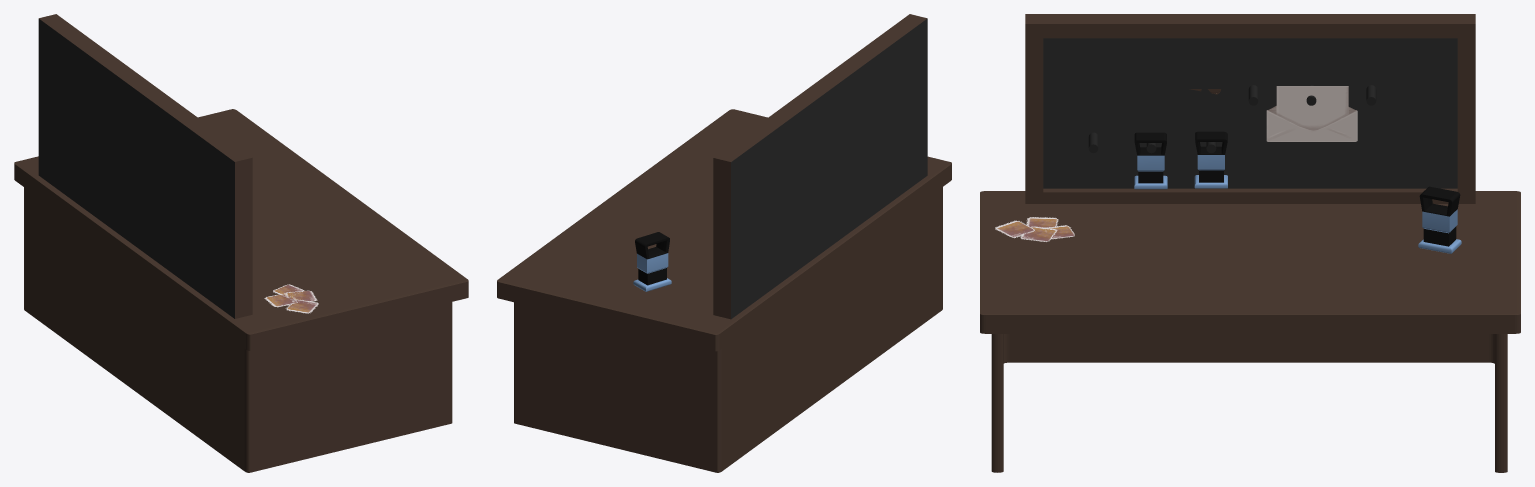
Rendered from stamp-machine.fbx.
The picture shows the model from 3 angles, left to right: view 1: azimuth 30°, elevation 25°; view 2: azimuth 150°, elevation 25°; view 3: azimuth 270°, elevation 25°; orthographic projection. The views are drawn at different scales.
Visible parts, largest first — view 1: Tisch, Wand; view 2: Tisch, Wand, Stempel; view 3: Tisch, Wand, Order UI, Stempel, Stempel.002, Stempel.001.
Part boxes in pixels (<box>): Tisch: <box>14,109,468,472</box>; Wand: <box>38,14,252,318</box>; Tisch: <box>497,109,951,472</box>; Wand: <box>713,14,927,319</box>; Stempel: <box>633,232,671,291</box>; Tisch: <box>980,191,1520,472</box>; Wand: <box>1025,14,1475,203</box>; Order UI: <box>1266,86,1357,141</box>; Stempel: <box>1418,186,1461,253</box>; Stempel.002: <box>1134,132,1167,189</box>; Stempel.001: <box>1194,131,1227,188</box>.
Bounding box in the file's own units: 235 × 305 × 433.
